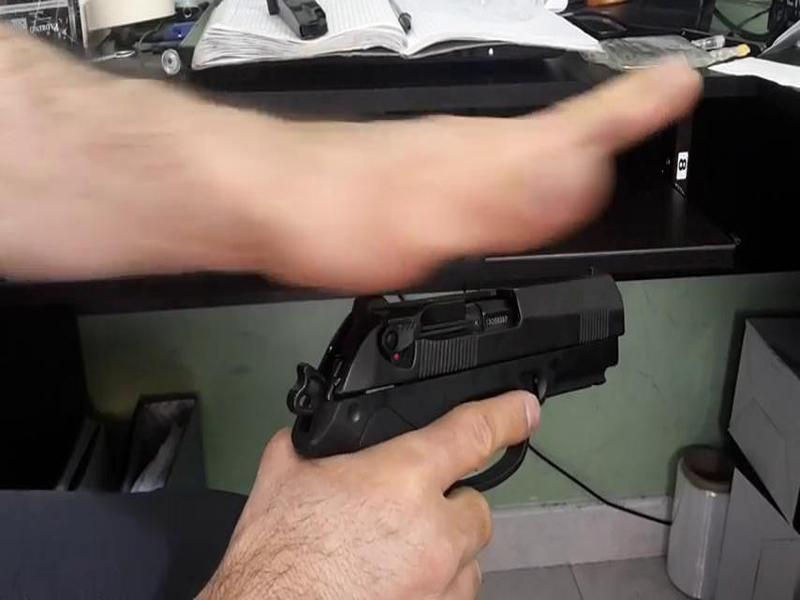Pistola: (277, 261, 634, 501)
